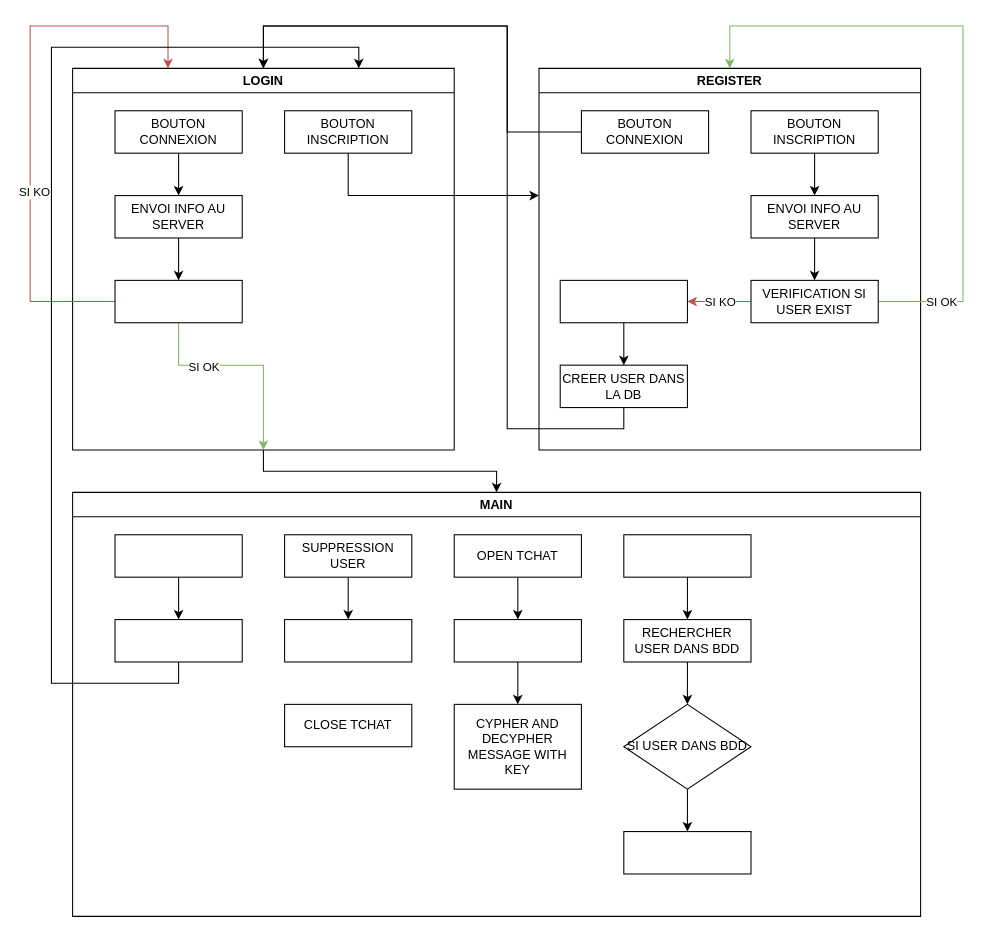
This 990x935 diagram has some shape labels left out. The centre of each missing label's shape, as x and y in pixels:
"AJOUTER USER DS LISTE DE CONTACT" goes at (687,852).
"BOUTON LOGOUT" goes at (178,555).
"DETRUIT LE COOKIE ET LA SESSION" goes at (178,640).
"HASH MDP" goes at (623,301).
"KEY EXCHANGE WITH USER B" goes at (517,640).
"SUPPR USER DS LISTE DE CONTACT" goes at (348,640).
"VERIFICATION DES LOGIN AVEC LA DB" goes at (178,301).
"ZONE RECHERCHE" goes at (687,555).
